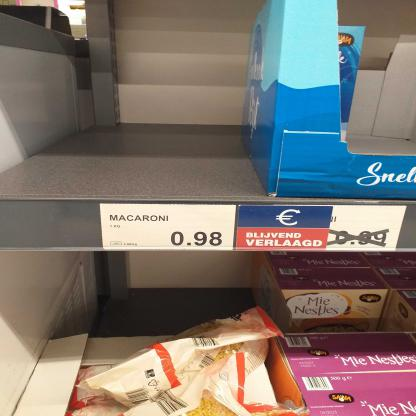prtg: (101, 205, 236, 251)
